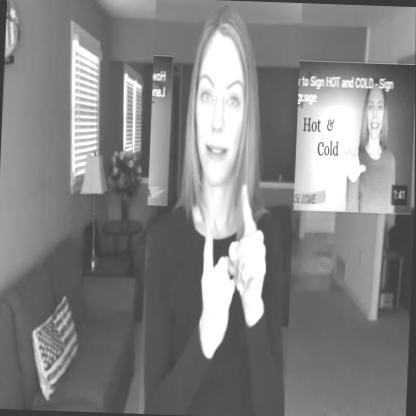NiceToMeetYou: (140, 0, 302, 416)
